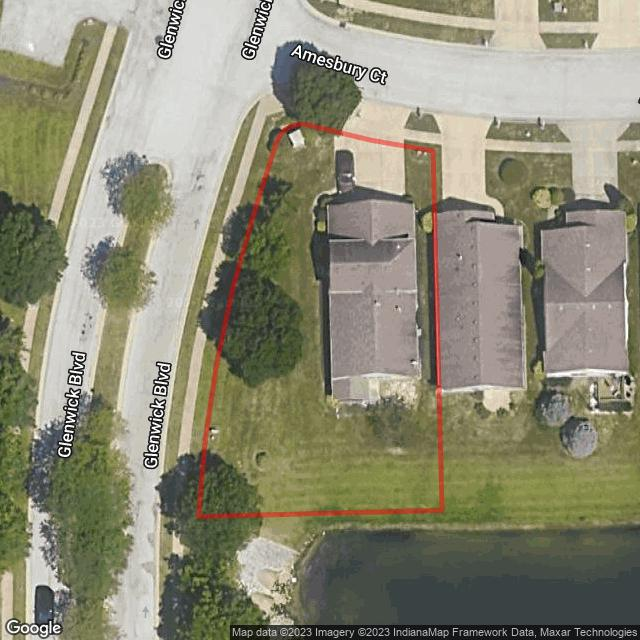Driveway: (333, 135, 406, 205)
Extra Driveway: (335, 96, 412, 144)
Extra Lawn: (185, 110, 344, 519), (160, 101, 259, 519), (405, 112, 436, 132), (404, 139, 436, 150)
Extra Sidewalk: (173, 90, 295, 520), (404, 129, 437, 144)
House: (328, 199, 420, 403)
Other: (289, 129, 305, 148), (421, 211, 432, 234)
